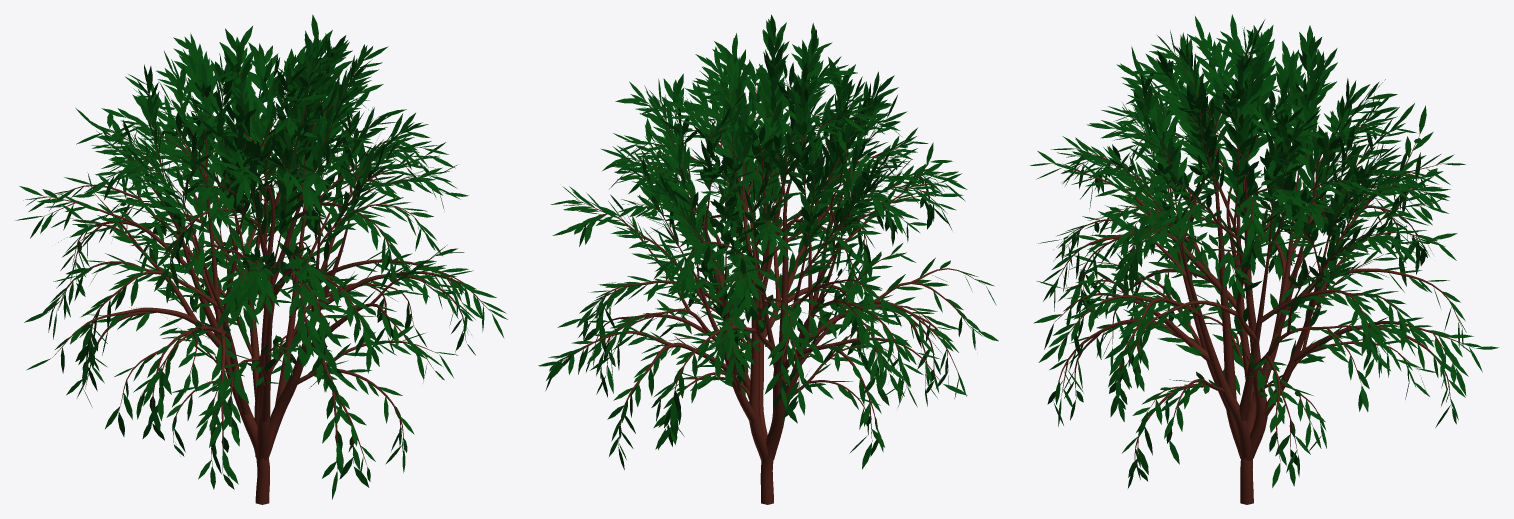
Rendered from tree1.fbx.
3 views of the same model, side by side, from view 1: azimuth 30°, elevation 25°; view 2: azimuth 150°, elevation 25°; view 3: azimuth 270°, elevation 25° (orthographic). The views are drawn at different scales.
Parts seen in each view (by area): view 1: leaves, tree; view 2: leaves, tree; view 3: leaves, tree.
Part boxes in pixels (x1,y1,x2,y2): leaves: (15,14,507,499); tree: (41,52,491,504); leaves: (538,14,998,469); tree: (558,38,984,504); leaves: (1029,14,1499,488); tree: (1052,42,1473,504).
Bounding box in the file's own units: 5.96 × 6.83 × 6.09.
